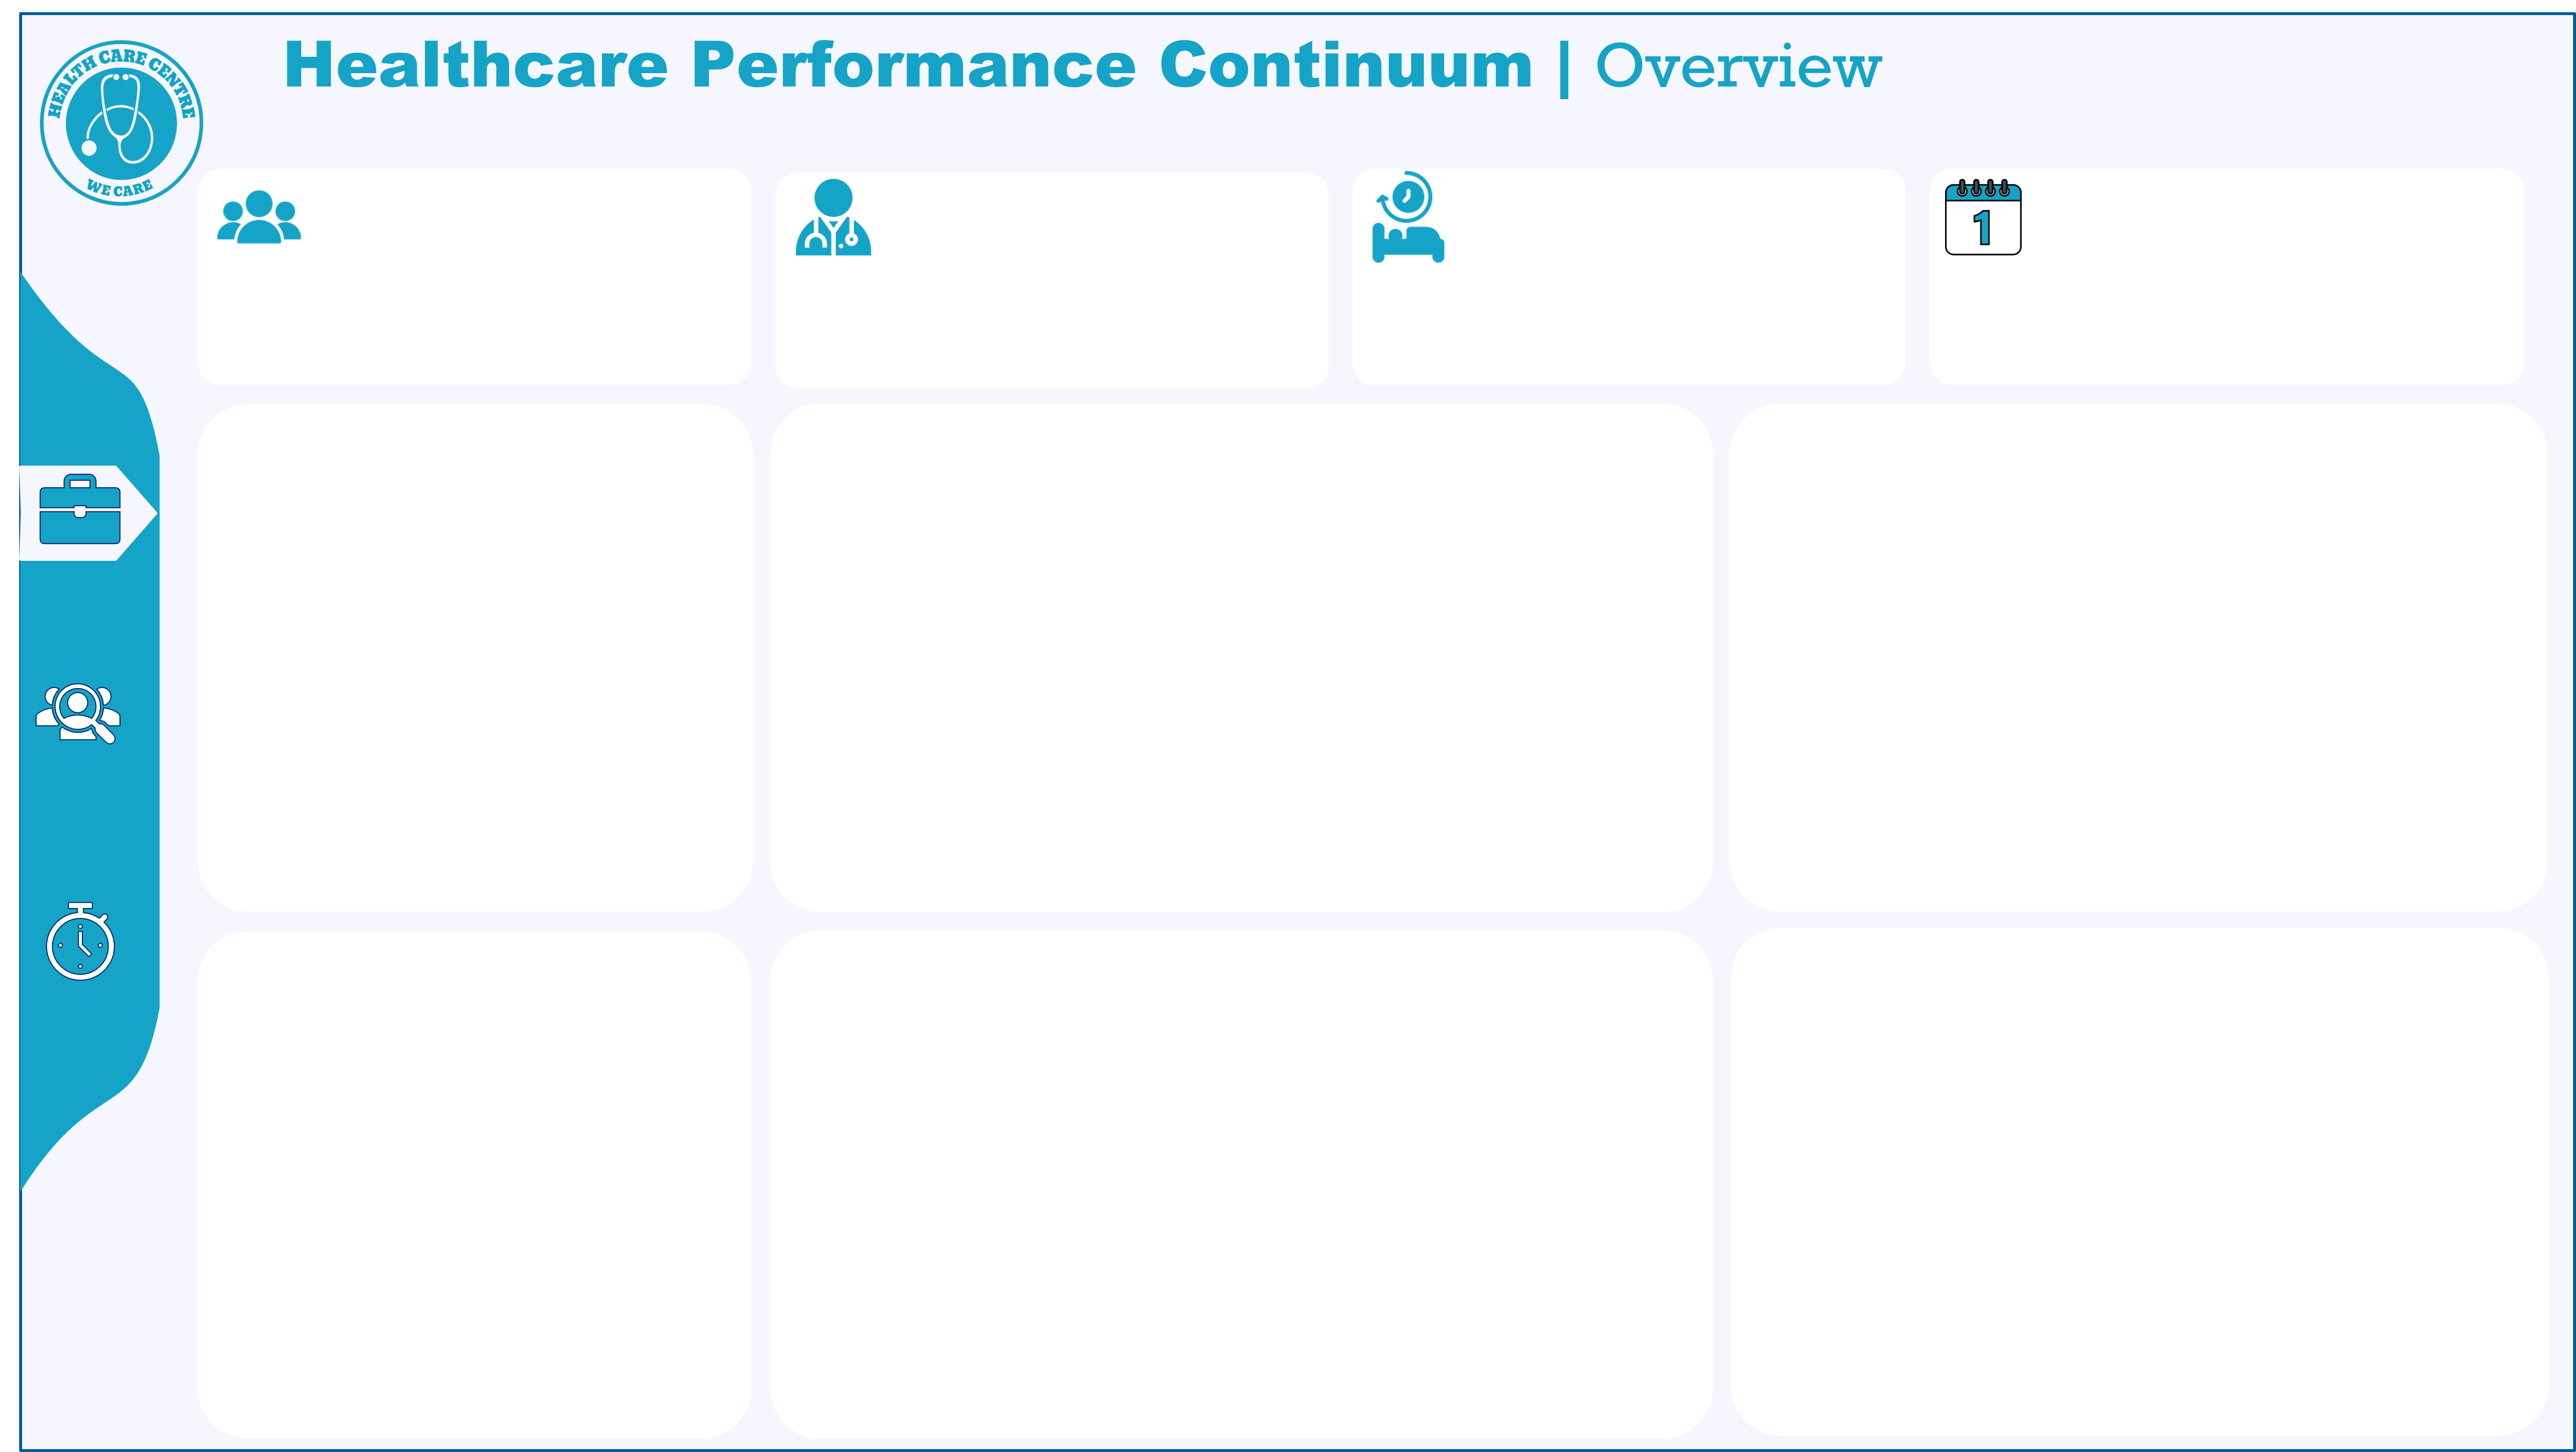

The dashboard page shown, as its layout file describes it:
{"tool":"powerbi","page":{"name":"Overview","canvas":[1280,720],"ordinal":0},"visuals":[{"type":"card","title":"Total Patients","fields":{"Values":["CountNonNull(Cleaned patients.Patient_ID)"]},"box":[100.5,80.2,272.1,110.7],"z":0},{"type":"card","title":"Total Staff","fields":{"Values":["CountNonNull(hospital_operations.Staff_Count)"]},"box":[387.3,80.2,271,110.7],"z":1000},{"type":"card","title":"Average LOS","fields":{"Values":["Avg(Cleaned patients.Length_of_Stay)"]},"box":[674.1,80.2,271,110.7],"z":2000},{"type":"card","title":"% of First Time Visit","fields":{"Values":["Avg(Cleaned patients.First_Time_Visit)"]},"box":[959.8,80.2,295.8,110.7],"z":3000},{"type":"donutChart","title":"Gender Distribution","fields":{"Y":["CountNonNull(Cleaned patients.Patient_ID)"],"Category":["Cleaned patients.Gender"]},"box":[100.5,199.9,271,250.7],"z":4000},{"type":"donutChart","title":"Patients by Insurance Type","fields":{"Y":["CountNonNull(Cleaned patients.Patient_ID)"],"Category":["Cleaned patients.Insurance_Type"]},"box":[100,461.2,271.8,250.6],"z":5000},{"type":"lineChart","title":"Patients Month Admission","fields":{"Y":["CountNonNull(Cleaned patients.Patient_ID)"],"Category":["Cleaned patients.Month Abbreviation"]},"box":[387.3,199.9,460.7,250.7],"z":6000},{"type":"columnChart","title":"Patients by Departments","fields":{"Y":["CountNonNull(Cleaned patients.Patient_ID)"],"Category":["Cleaned patients.Admission_Department"]},"box":[861.2,200,402.4,250.6],"z":7000},{"type":"columnChart","title":"ALOS by Department","fields":{"Y":["Avg(Cleaned patients.Length_of_Stay)"],"Category":["Cleaned patients.Admission_Department"]},"box":[387,461,461,251],"z":8000},{"type":"barChart","title":"Patients by Chronic Condition","fields":{"Y":["CountNonNull(Cleaned patients.Patient_ID)"],"Category":["Cleaned patients.Chronic_Condition"]},"box":[861,461,402,251],"z":9000},{"type":"actionButton","box":[9.4,229.4,71.8,51.8],"z":10000},{"type":"actionButton","box":[9.4,331.8,71.8,51.8],"z":11000},{"type":"actionButton","box":[10.6,440,71.8,51.8],"z":12000},{"type":"actionButton","title":"F","box":[1015.3,5.9,114.1,74.1],"z":13000}]}

Visuals, with their boxes in screenshot pixels (x1, y1, x2, y2), scaled from the page's 1280x720 canvas onto the 2576x1452 screenshot:
"Total Patients" card: (202,162,750,385)
"Total Staff" card: (780,162,1325,385)
"Average LOS" card: (1356,162,1902,385)
"% of First Time Visit" card: (1932,162,2527,385)
"Gender Distribution" donutChart: (202,403,748,909)
"Patients by Insurance Type" donutChart: (201,930,748,1436)
"Patients Month Admission" lineChart: (780,403,1706,909)
"Patients by Departments" columnChart: (1733,403,2543,909)
"ALOS by Department" columnChart: (779,929,1706,1436)
"Patients by Chronic Condition" barChart: (1733,929,2542,1436)
actionButton: (19,463,164,567)
actionButton: (19,669,164,773)
actionButton: (21,887,166,992)
"F" actionButton: (2043,12,2273,161)
